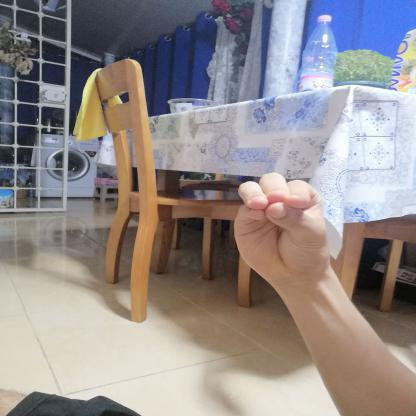HA: (220, 164, 337, 293)
